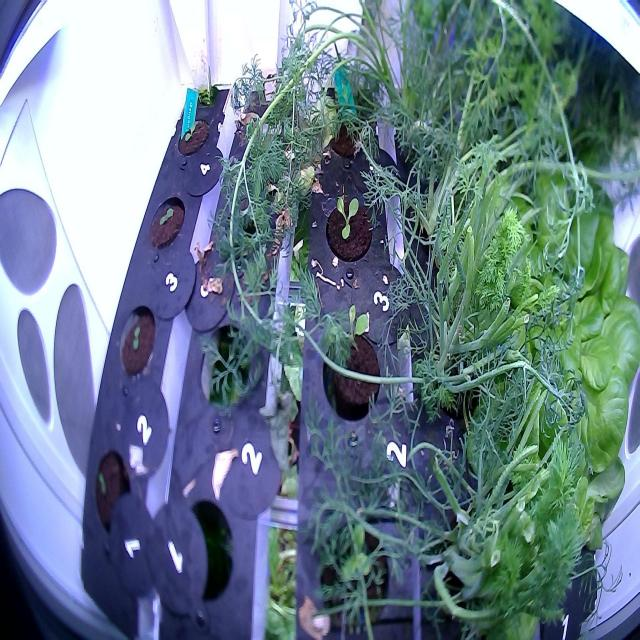Ready: (492, 160, 640, 561)
empty_pod: (162, 488, 238, 610), (198, 314, 260, 410)
germination: (310, 510, 392, 632), (310, 298, 386, 424), (317, 180, 379, 268), (90, 442, 138, 537), (113, 294, 159, 384), (144, 187, 192, 254), (175, 104, 213, 166)
